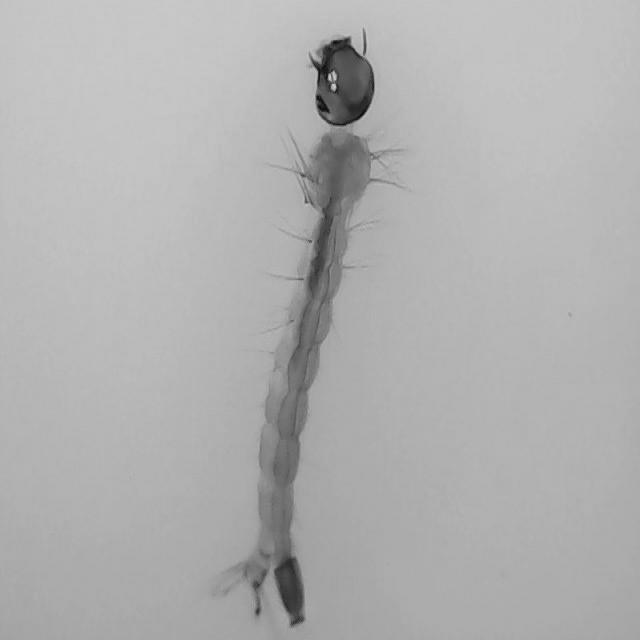larvas: (235, 42, 378, 623)
